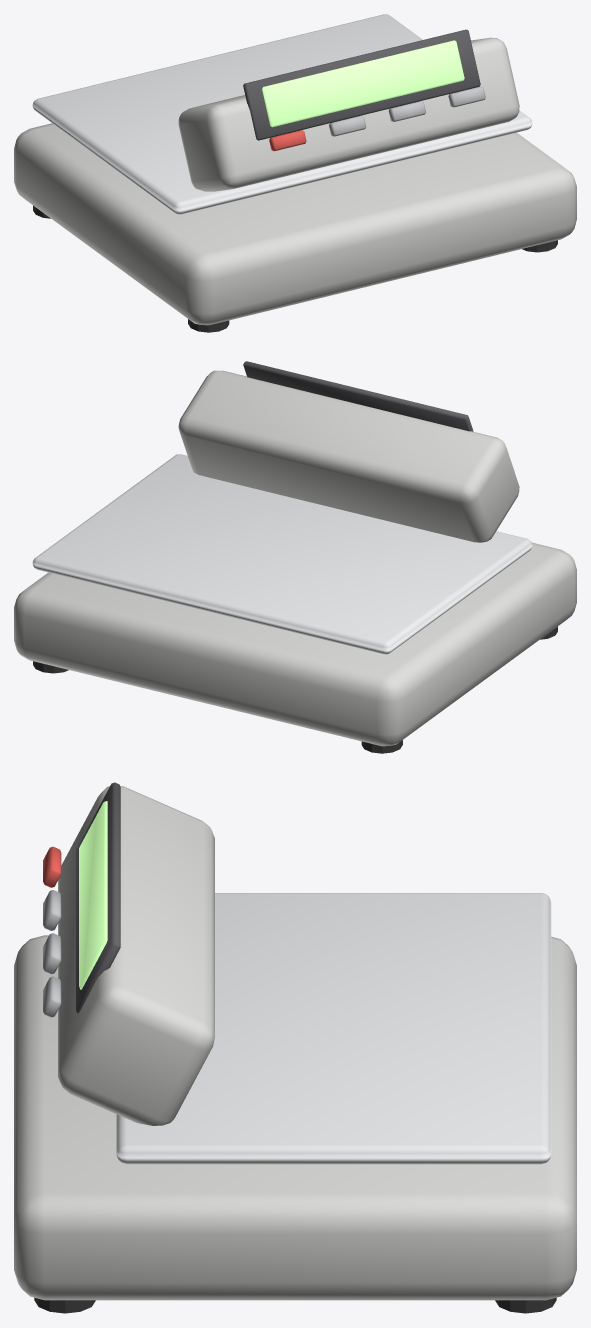
The model's file is digital_scale.glb.
3 renders of one model, top to bottom at view 1: azimuth 30°, elevation 25°; view 2: azimuth 150°, elevation 25°; view 3: azimuth 270°, elevation 25°, orthographic. The views are drawn at different scales.
Visible parts, largest first — view 1: DigitalScale; view 2: DigitalScale; view 3: DigitalScale.
Part boxes in pixels (x1,y1,x2,y2): DigitalScale: (14, 14, 576, 332); DigitalScale: (14, 361, 576, 753); DigitalScale: (14, 782, 576, 1313).
Bounding box in the file's own units: 0.26 × 0.1376 × 0.22.
